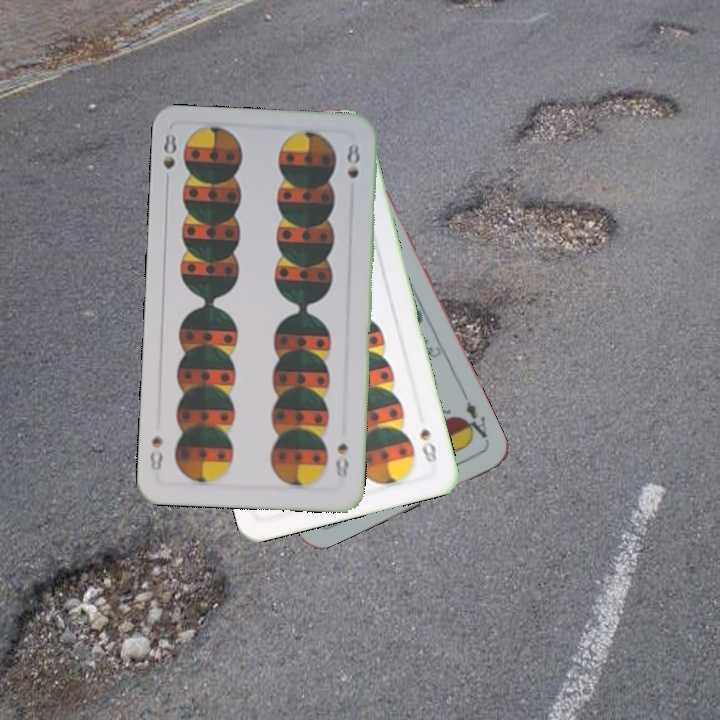EA: (457, 397, 492, 445)
S8: (159, 129, 179, 188), (416, 424, 440, 465), (331, 439, 351, 480)
